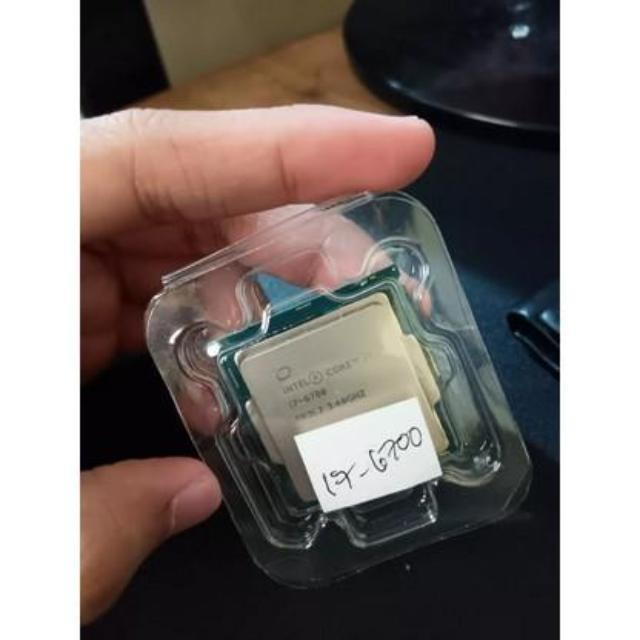CPU: (223, 304, 454, 510)
